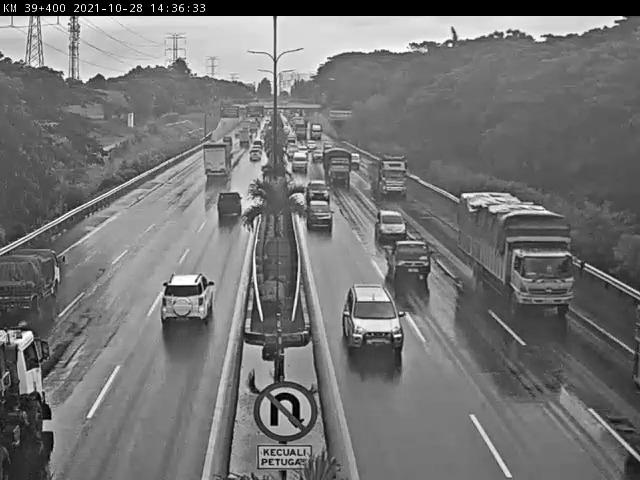big truck: (471, 204, 579, 301), (593, 290, 640, 385), (349, 284, 403, 351), (360, 154, 405, 189), (201, 149, 233, 181), (321, 152, 351, 176)
car: (149, 272, 211, 329), (563, 440, 640, 480), (384, 229, 421, 266), (212, 195, 249, 229), (369, 204, 397, 235), (307, 193, 327, 220), (305, 175, 333, 194), (293, 155, 308, 169), (249, 152, 261, 166)
